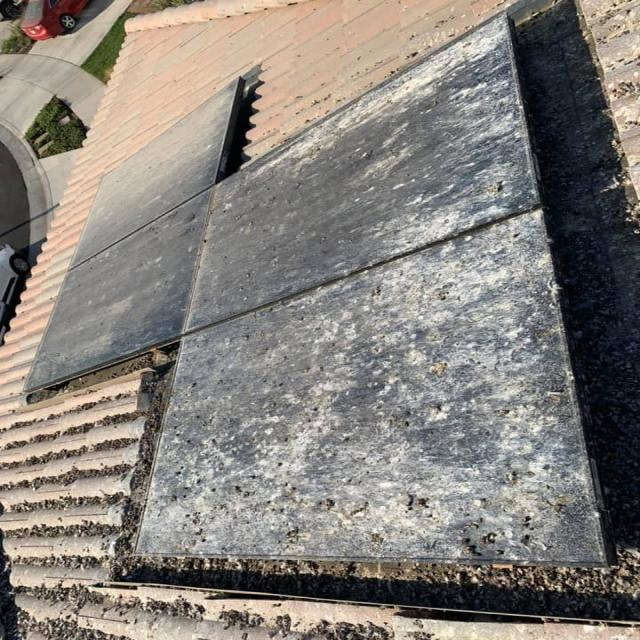dust-solar-panel: (27, 15, 605, 562)
